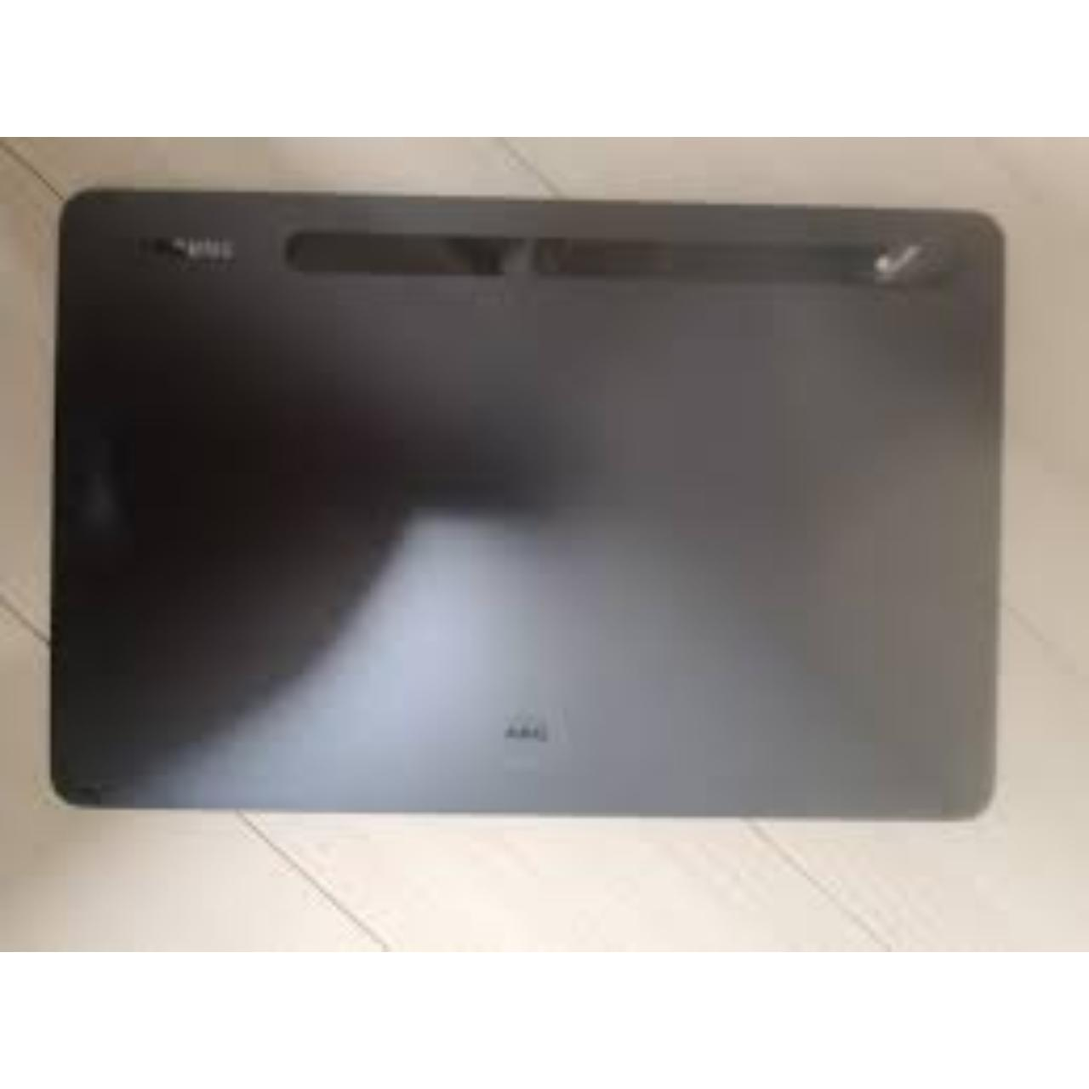Tablet_PC: (41, 184, 1010, 834)
